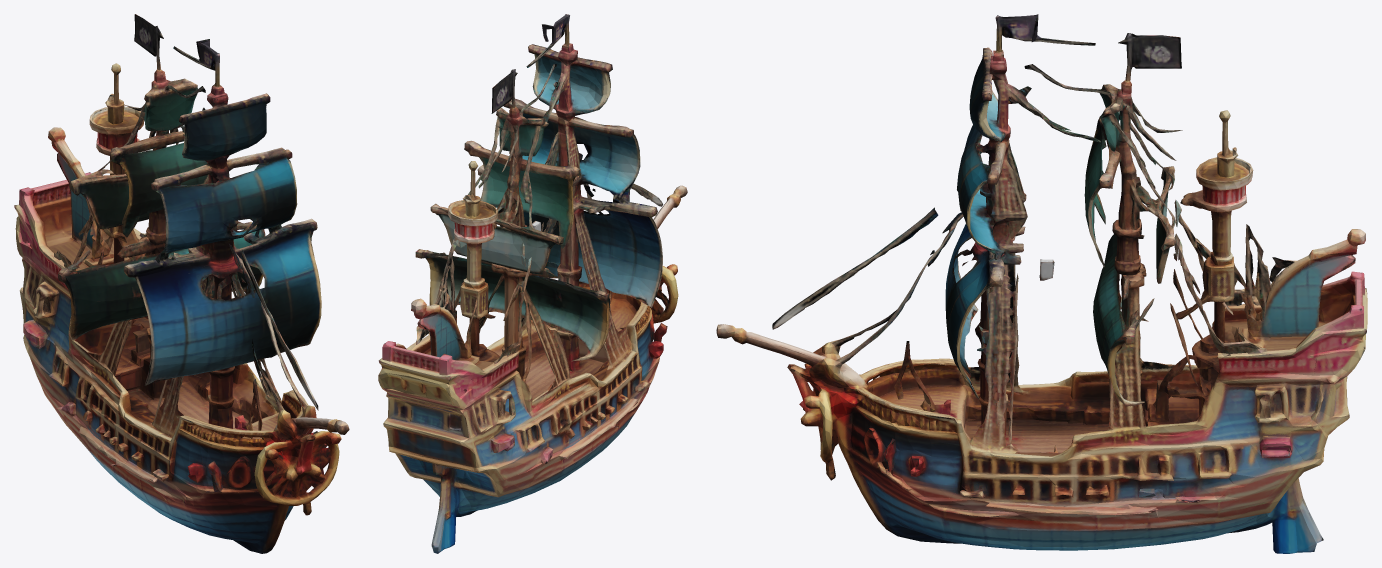
File: typical_vehicle_pirate_ship_3D-CoR1.glb
The picture shows the model from 3 angles, left to right: view 1: azimuth 30°, elevation 25°; view 2: azimuth 150°, elevation 25°; view 3: azimuth 270°, elevation 25°; orthographic projection. The views are drawn at different scales.
Parts seen in each view (by area): view 1: world; view 2: world; view 3: world.
Boxes of the visible parts, x1,y1,x2,y2 form: world: (14,14,349,553); world: (378,14,687,553); world: (716,14,1367,553).
Size of the model in its own units: 0.3997 by 0.898 by 0.9886.
Materials: 1 (1 with a texture image).
